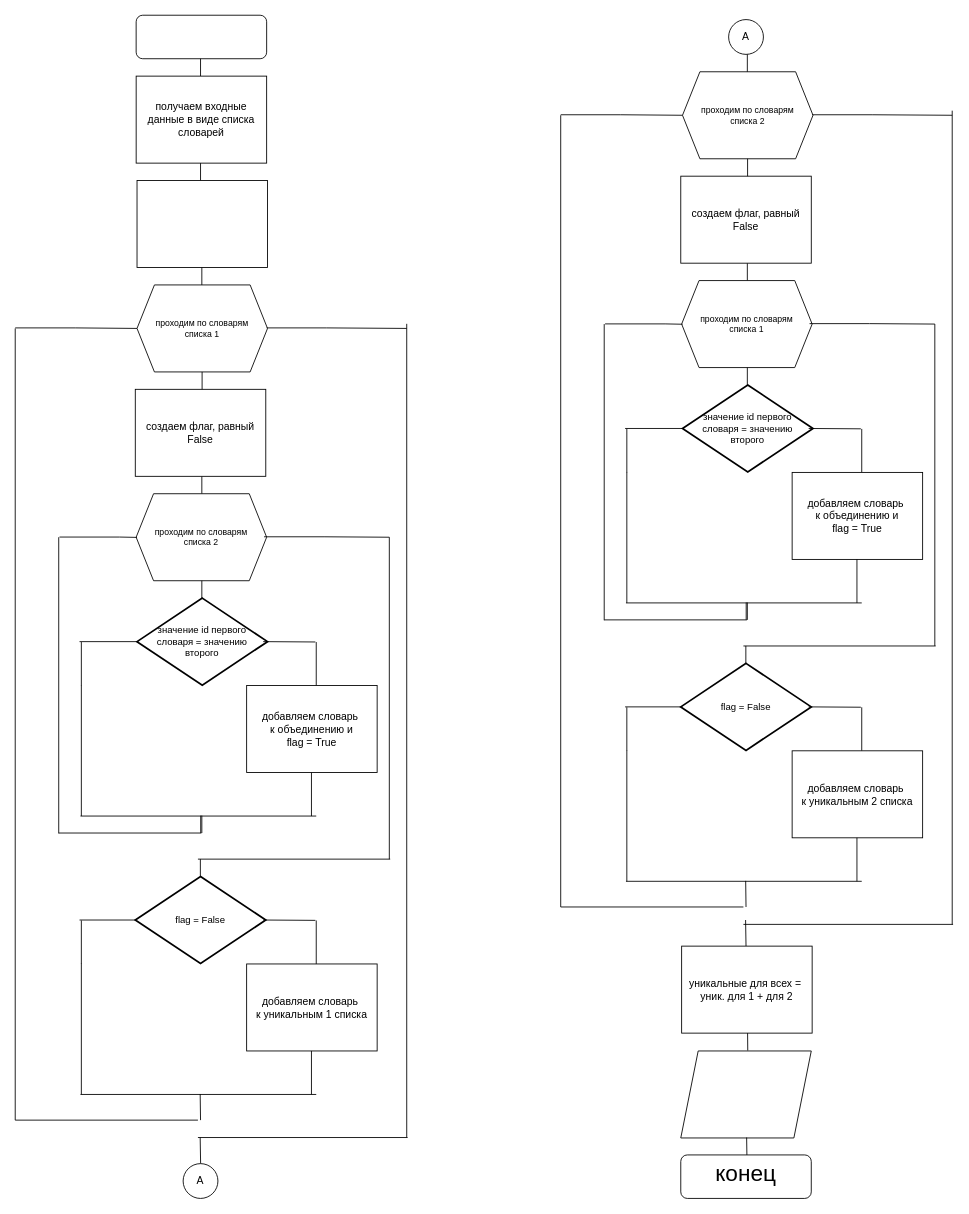
Some shapes in this 969 by 1214 pixel diagram are drawn without their labels. The centre of each missing label's shape, as x and y in pixels:
вывод пересечений и уникальных: (745,1094)
начало: (201,36)
создаем пустые списки для пересечений и уникальных значений: (202,224)
